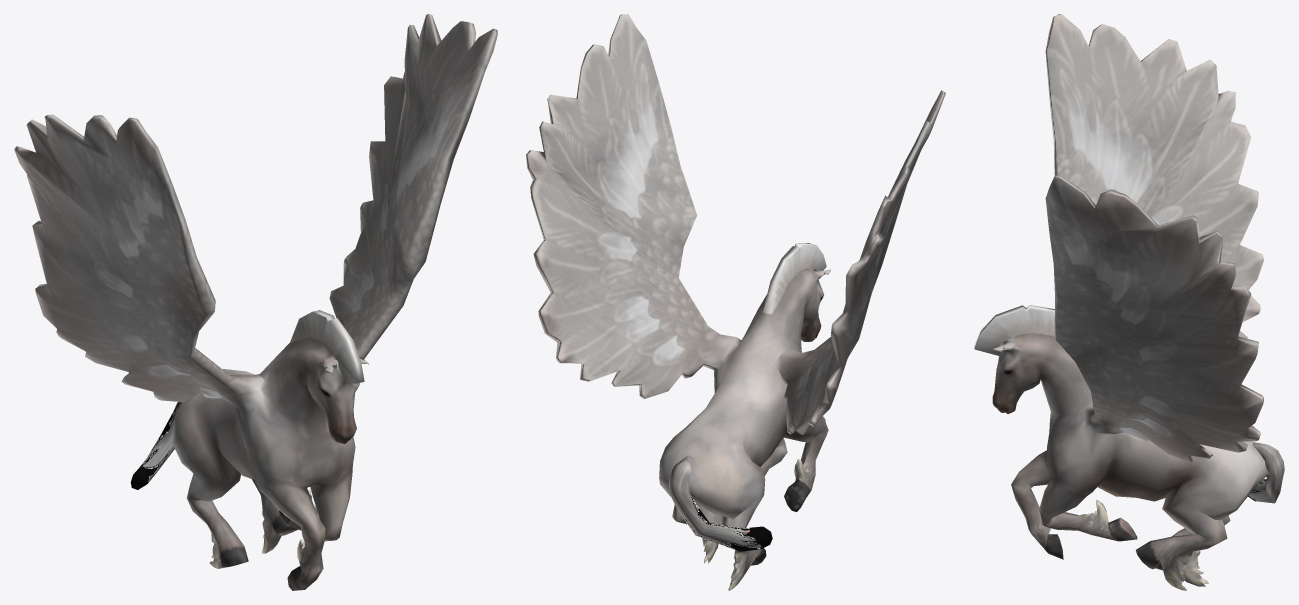
File: 39-pegasus.glb
The picture shows the model from 3 angles, left to right: view 1: azimuth 30°, elevation 25°; view 2: azimuth 150°, elevation 25°; view 3: azimuth 270°, elevation 25°; orthographic projection. The views are drawn at different scales.
Bounding box in the file's own units: 3.47 × 4.53 × 2.55.
Materials: 1 (1 with a texture image).
